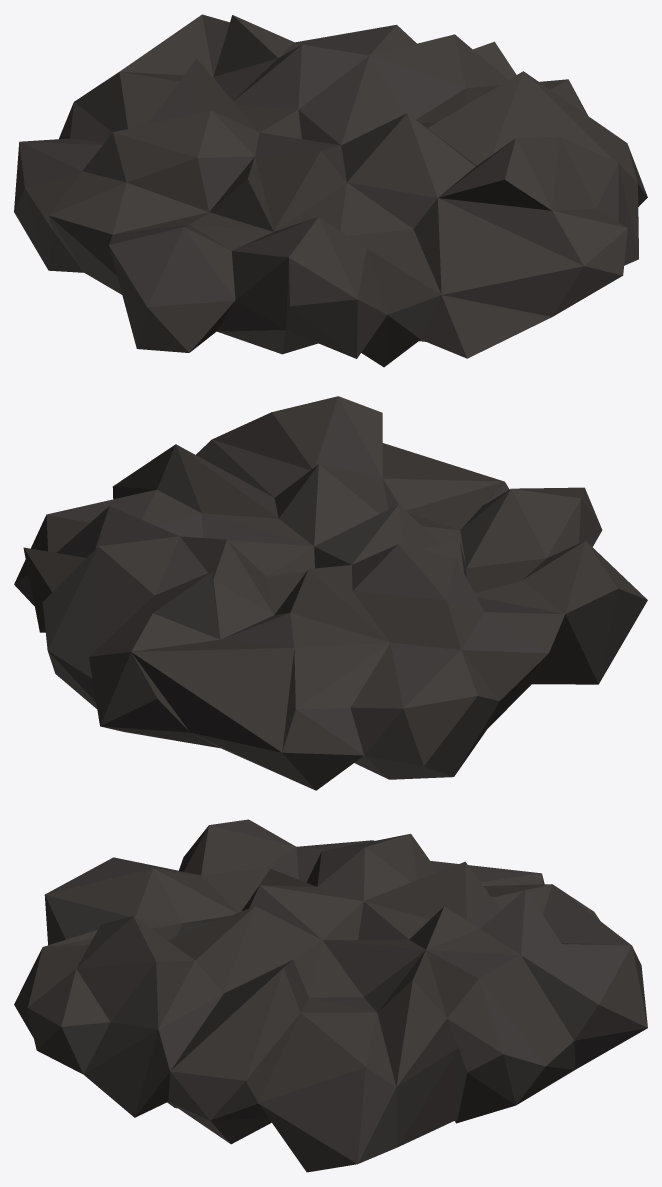
The model's file is Rock_10_LOD_1.fbx.
The picture shows the model from 3 angles, top to bottom: view 1: azimuth 30°, elevation 25°; view 2: azimuth 150°, elevation 25°; view 3: azimuth 270°, elevation 25°; orthographic projection. The views are drawn at different scales.
Visible parts, largest first — view 1: Group49170; view 2: Group49170; view 3: Group49170.
Part boxes in pixels (x1,y1,x2,y2): Group49170: [14, 14, 647, 367]; Group49170: [14, 396, 647, 790]; Group49170: [14, 819, 647, 1172].
Bounding box in the file's own units: 3.61 × 1.24 × 3.73.
